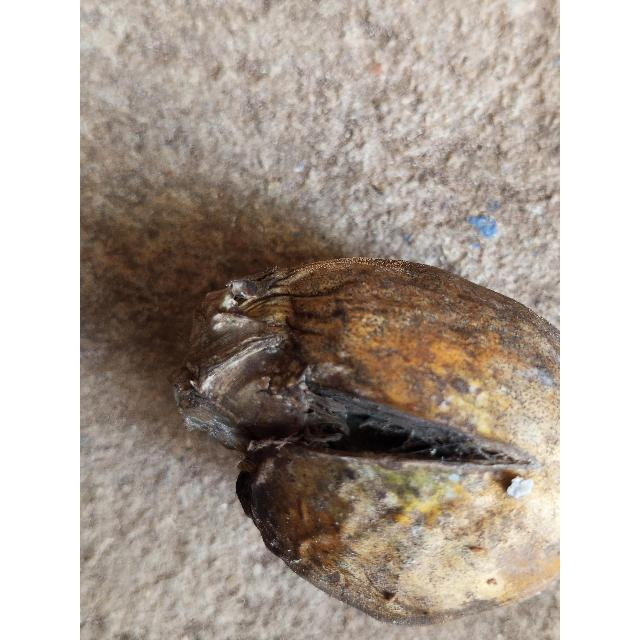damaged: (173, 256, 560, 625)
